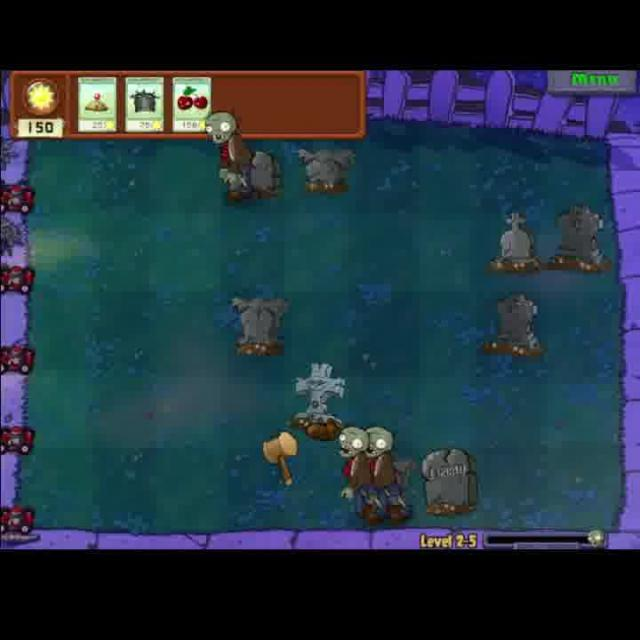coins: (200, 103, 257, 210), (367, 418, 415, 522), (336, 424, 376, 521)
